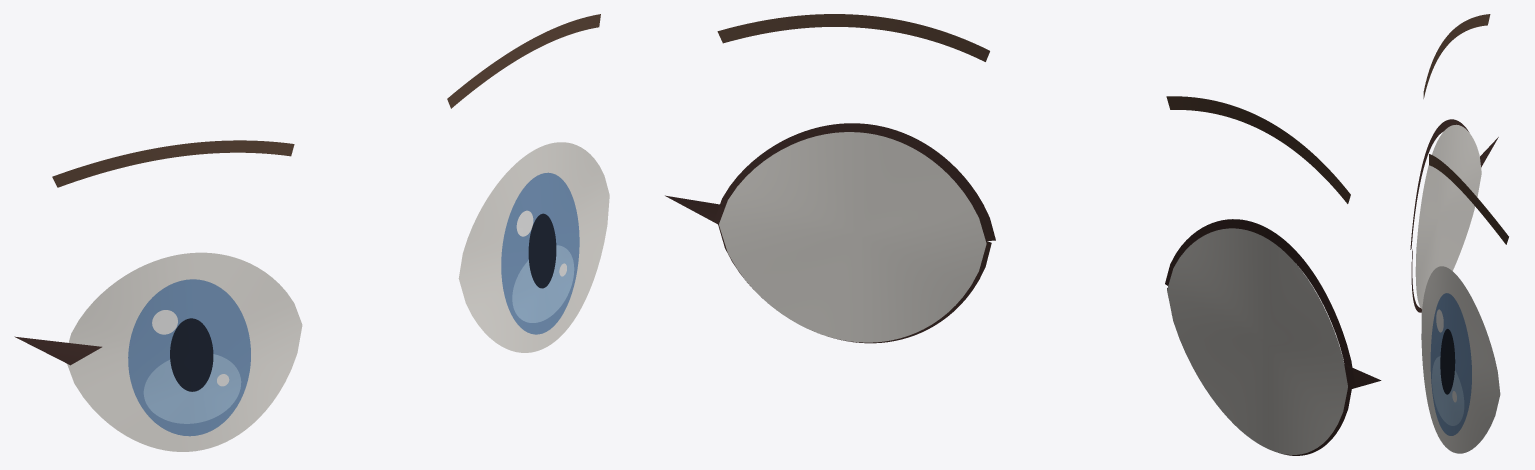
The picture shows the model from 3 angles, left to right: view 1: azimuth 30°, elevation 25°; view 2: azimuth 150°, elevation 25°; view 3: azimuth 270°, elevation 25°; orthographic projection. The views are drawn at different scales.
Visible parts, largest first — view 1: Eye_White_-1, Eye_White_1, Eye_Iris_-1, Eye_Iris_1, Eye_Iris_Light_-1, Eyebrow_-1, Eye_Iris_Light_1, Eye_Pupil_-1, Eyebrow_1, Eye_Pupil_1, Eye_LashWing_-1; view 2: Eye_White_1, Eye_White_-1, Eyebrow_1, Eye_UpperLid_1, Eye_UpperLid_-1, Eyebrow_-1, Eye_LowerLid_1; view 3: Eye_White_-1, Eye_White_1, Eye_Iris_1, Eye_Iris_Light_1, Eyebrow_1, Eye_Pupil_1, Eyebrow_-1, Eye_UpperLid_-1, Eye_Glint_1_0, Eye_LowerLid_-1, Eye_LashWing_-1.
Part boxes in pixels (left/top/right/bottom): Eye_White_-1: left=67, top=252, right=302, bottom=451; Eye_White_1: left=458, top=142, right=609, bottom=352; Eye_Iris_-1: left=128, top=279, right=250, bottom=436; Eye_Iris_1: left=501, top=172, right=579, bottom=334; Eye_Iris_Light_-1: left=143, top=354, right=241, bottom=423; Eyebrow_-1: left=52, top=140, right=294, bottom=187; Eye_Iris_Light_1: left=512, top=245, right=574, bottom=322; Eye_Pupil_-1: left=170, top=318, right=213, bottom=391; Eyebrow_1: left=447, top=14, right=600, bottom=108; Eye_Pupil_1: left=528, top=213, right=556, bottom=288; Eye_LashWing_-1: left=14, top=336, right=101, bottom=365; Eye_White_1: left=719, top=132, right=986, bottom=342; Eye_White_-1: left=1167, top=228, right=1347, bottom=454; Eyebrow_1: left=717, top=14, right=989, bottom=61; Eye_UpperLid_1: left=714, top=123, right=995, bottom=240; Eye_UpperLid_-1: left=1165, top=219, right=1355, bottom=385; Eyebrow_-1: left=1166, top=96, right=1350, bottom=203; Eye_LowerLid_1: left=717, top=223, right=991, bottom=343; Eye_White_-1: left=1415, top=124, right=1481, bottom=308; Eye_White_1: left=1421, top=266, right=1500, bottom=453; Eye_Iris_1: left=1430, top=293, right=1471, bottom=435; Eye_Iris_Light_1: left=1432, top=356, right=1464, bottom=425; Eyebrow_1: left=1429, top=154, right=1508, bottom=244; Eye_Pupil_1: left=1440, top=329, right=1455, bottom=394; Eyebrow_-1: left=1423, top=14, right=1490, bottom=98; Eye_UpperLid_-1: left=1410, top=119, right=1469, bottom=249; Eye_Glint_1_0: left=1436, top=309, right=1443, bottom=332; Eye_LowerLid_-1: left=1411, top=249, right=1421, bottom=312; Eye_LashWing_-1: left=1480, top=137, right=1498, bottom=167.
Size of the model in its own units: 0.4216 by 0.2015 by 0.0725.
